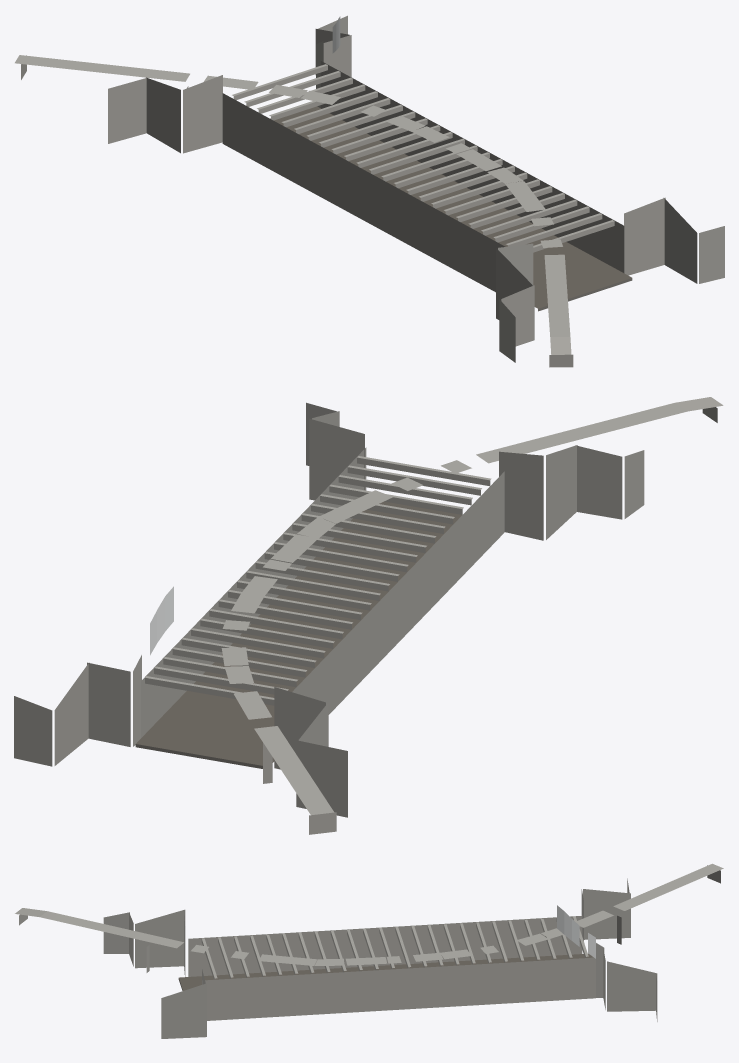
Rendered from br_h30_whitemud_arch_lod2.gltf.
3 views of the same model, one above another, from view 1: azimuth 30°, elevation 25°; view 2: azimuth 150°, elevation 25°; view 3: azimuth 270°, elevation 25° (orthographic). The views are drawn at different scales.
Visible parts, largest first — view 1: br_h30_whitemud_arch_lod2; view 2: br_h30_whitemud_arch_lod2; view 3: br_h30_whitemud_arch_lod2.
Part boxes in pixels (bbox=[...]): br_h30_whitemud_arch_lod2: bbox=[15, 15, 724, 367]; br_h30_whitemud_arch_lod2: bbox=[14, 397, 723, 834]; br_h30_whitemud_arch_lod2: bbox=[15, 863, 723, 1038].
Size of the model in its own units: 71.03 by 20.95 by 148.
